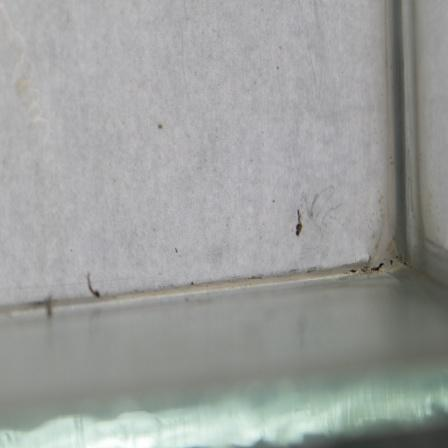Jentik-Nyamuk: (288, 210, 307, 241)
